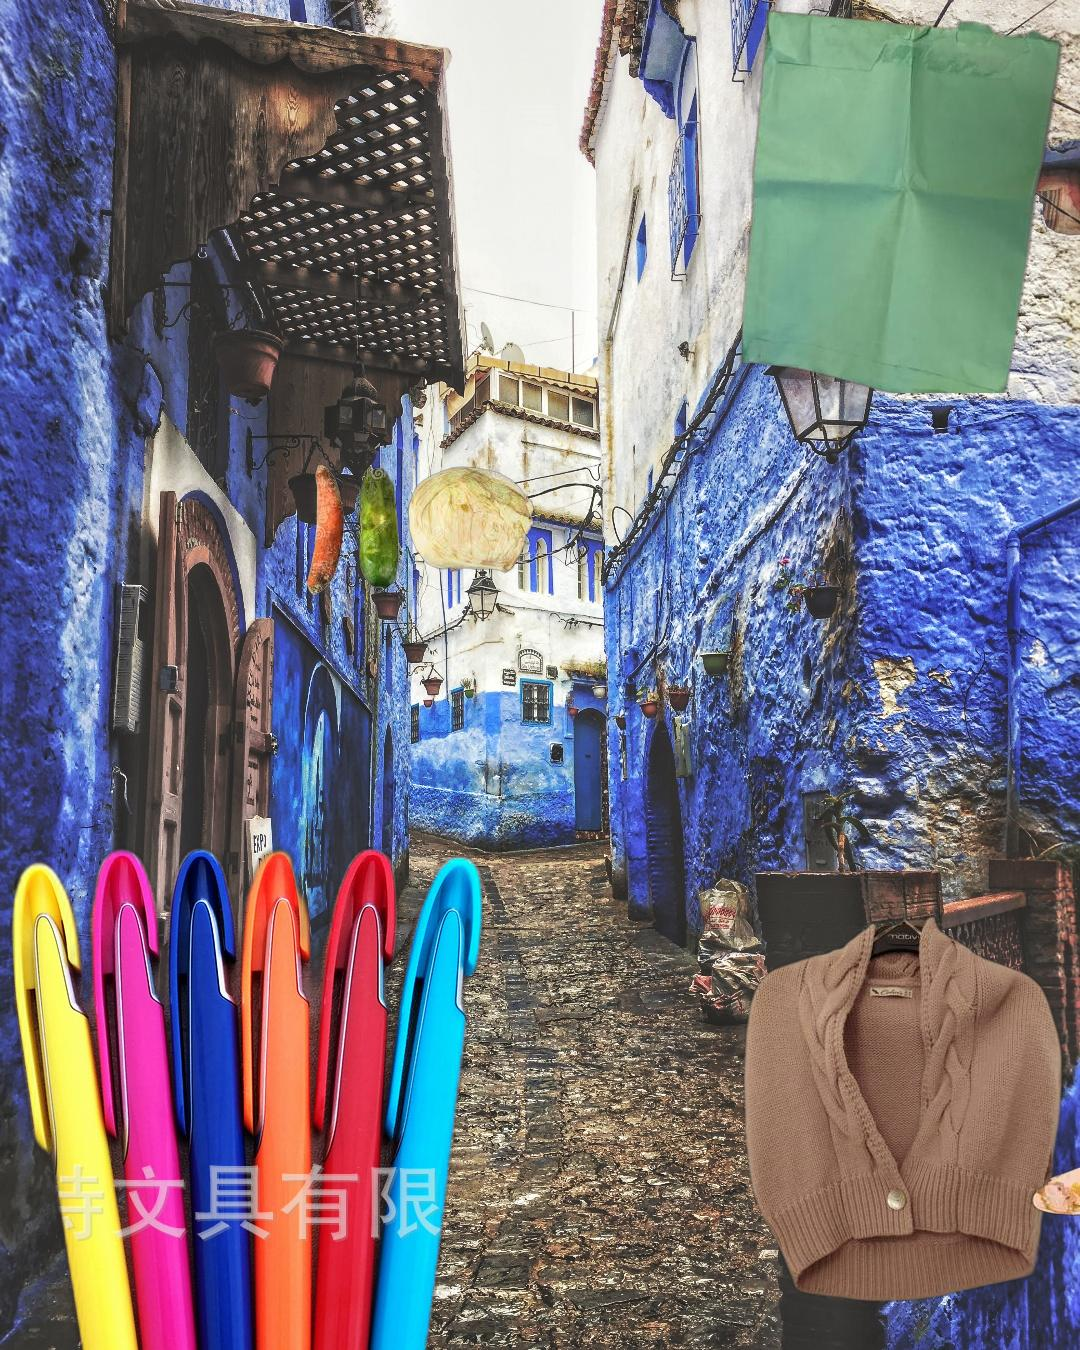biological: (304, 462, 537, 600), (1029, 1125, 1080, 1218)
clothes: (738, 911, 1067, 1305)
paper: (737, 9, 1067, 393)
penholder: (4, 840, 492, 1350)
